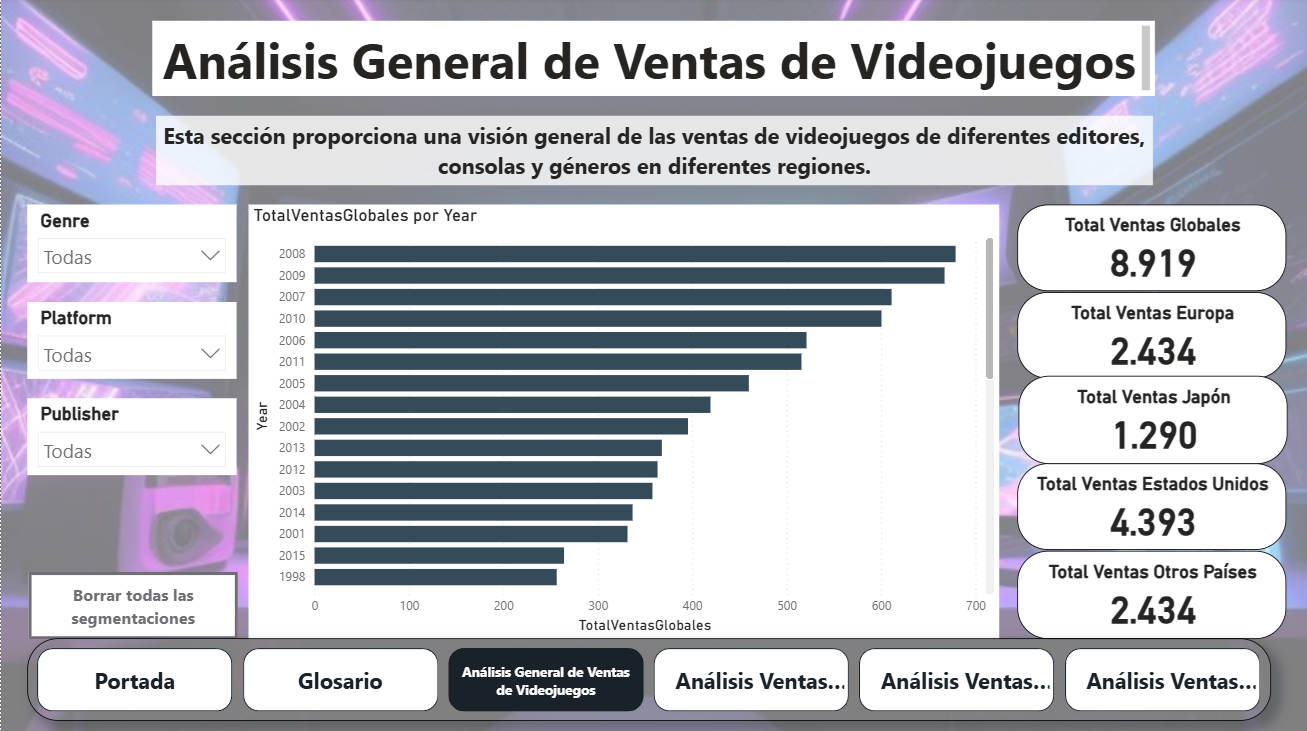

The dashboard page shown, as its layout file describes it:
{"tool":"powerbi","page":{"name":"Análisis General de Ventas de Videojuegos","canvas":[1280,720],"ordinal":2},"visuals":[{"type":"textbox","box":[148.3,23,980.6,73.4],"z":0},{"type":"textbox","box":[151.2,116.6,974.9,67.7],"z":1000},{"type":"slicer","fields":{"Values":["Dim_Genre.Genre"]},"box":[25.9,203,204.5,76.3],"z":2000},{"type":"slicer","fields":{"Values":["Dim_Publisher.Publisher"]},"box":[25.9,393.1,204.5,74.9],"z":3000},{"type":"slicer","fields":{"Values":["Dim_Platform.Platform"]},"box":[25.9,298.1,204.5,74.9],"z":4000},{"type":"card","title":"Total Ventas Europa","fields":{"Values":["Z_Medidas.TotalVentasEU"]},"box":[993.6,288,263.5,85],"z":5000},{"type":"card","title":"Total Ventas Otros Países","fields":{"Values":["Z_Medidas.TotalVentasEU"]},"box":[993.6,541.4,263.5,86.4],"z":6000},{"type":"card","title":"Total Ventas Estados Unidos","fields":{"Values":["Z_Medidas.TotalVentasNA"]},"box":[993.6,456.5,263.5,85],"z":7000},{"type":"card","title":"Total Ventas Japón","fields":{"Values":["Z_Medidas.TotalVentasJP"]},"box":[995,370.1,263.5,86.4],"z":8000},{"type":"card","title":"Total Ventas Globales","fields":{"Values":["Z_Medidas.TotalVentasGlobales"]},"box":[993.6,203,263.5,85],"z":9000},{"type":"actionButton","box":[26.3,562,204.9,65.9],"z":10000},{"type":"barChart","fields":{"Category":["TB_Videogames.Year"],"Y":["Z_Medidas.TotalVentasGlobales"]},"box":[241.9,203,734.4,424.8],"z":11000},{"type":"pageNavigator","box":[25.9,627.8,1216.8,80.6],"z":12000}]}

Visuals, with their boxes in screenshot pixels (x1, y1, x2, y2), scaled from the page's 1280x720 canvas onto the 1307x731 screenshot:
textbox: l=151, t=23, r=1153, b=98
textbox: l=154, t=118, r=1150, b=187
slicer - Dim_Genre.Genre: l=26, t=206, r=235, b=284
slicer - Dim_Publisher.Publisher: l=26, t=399, r=235, b=475
slicer - Dim_Platform.Platform: l=26, t=303, r=235, b=379
"Total Ventas Europa" card: l=1015, t=292, r=1284, b=379
"Total Ventas Otros Países" card: l=1015, t=550, r=1284, b=637
"Total Ventas Estados Unidos" card: l=1015, t=463, r=1284, b=550
"Total Ventas Japón" card: l=1016, t=376, r=1285, b=463
"Total Ventas Globales" card: l=1015, t=206, r=1284, b=292
actionButton: l=27, t=571, r=236, b=637
barChart - TB_Videogames.Year x Z_Medidas.TotalVentasGlobales: l=247, t=206, r=997, b=637
pageNavigator: l=26, t=637, r=1269, b=719
